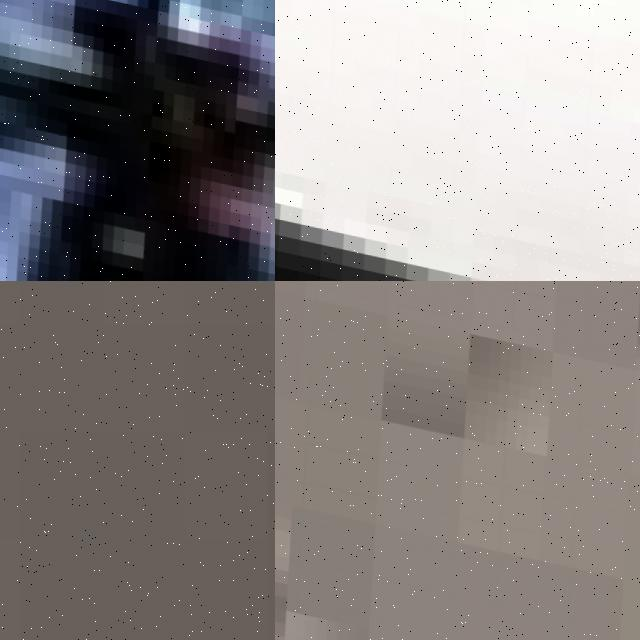0: (275, 281, 640, 640), (0, 0, 275, 281)
drone: (275, 0, 640, 281)
